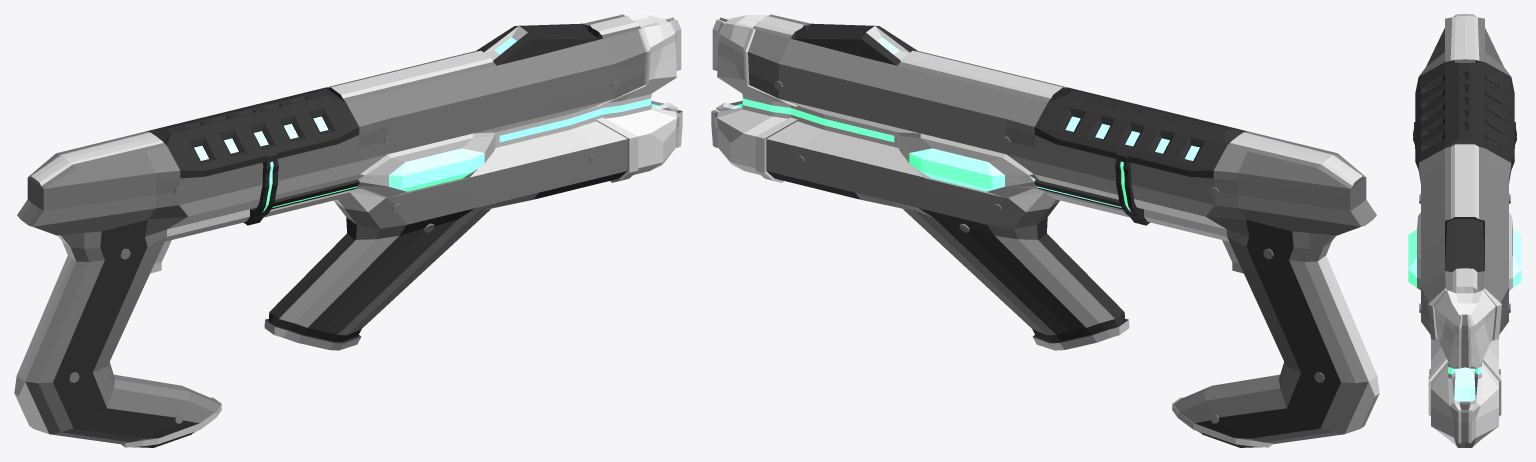
File: Gun.fbx
3 views of the same model, side by side, from view 1: azimuth 30°, elevation 25°; view 2: azimuth 150°, elevation 25°; view 3: azimuth 270°, elevation 25° (orthographic).
Visible parts, largest first — view 1: Gun; view 2: Gun; view 3: Gun.
Boxes of the visible parts, x1=… form: Gun: x1=14, y1=14, x2=682, y2=447; Gun: x1=711, y1=14, x2=1379, y2=447; Gun: x1=1408, y1=14, x2=1521, y2=447.
Size of the model in its own units: 42.37 by 19.77 by 6.35.
